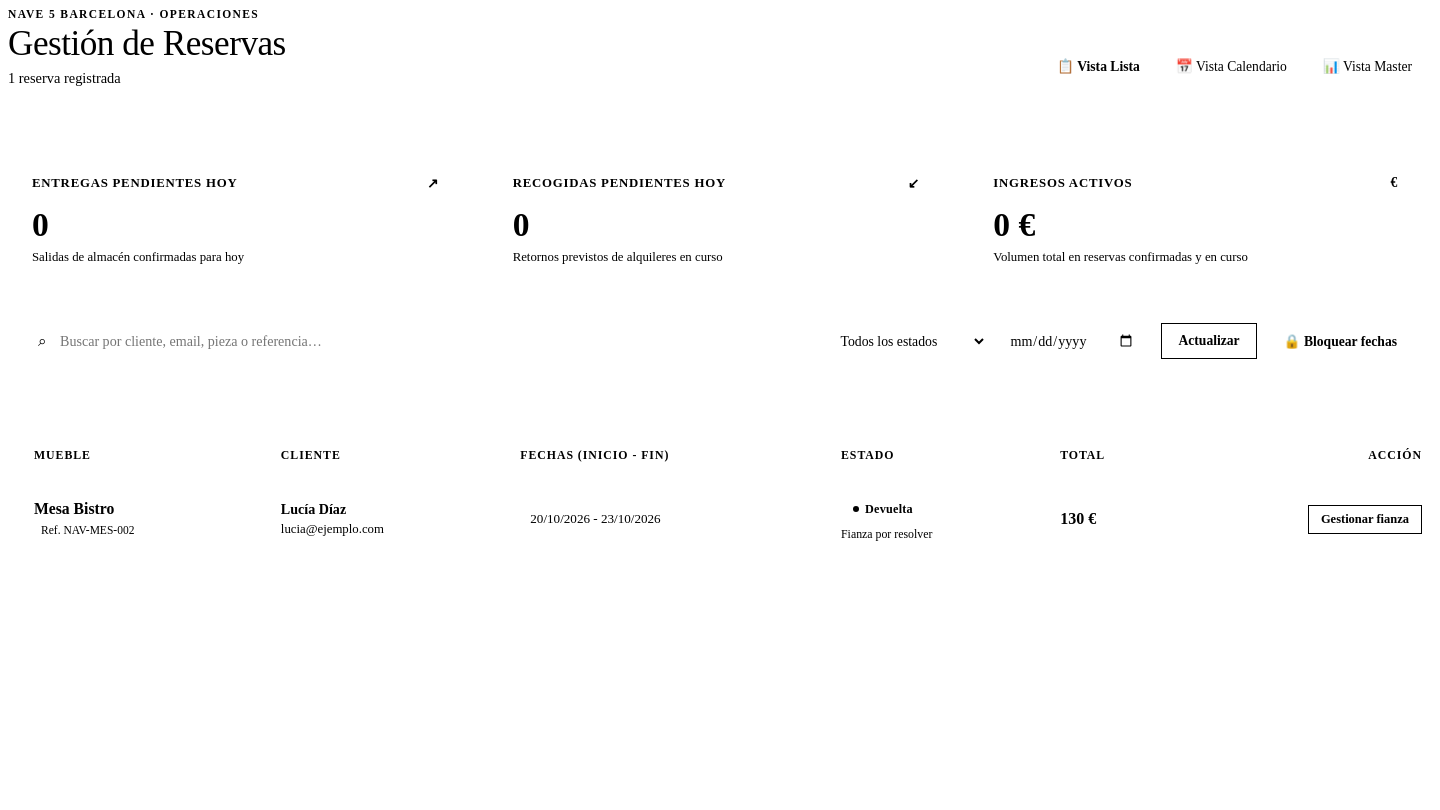
Scenario: ReservasTab — Gestionar fianza (R-e) › devolverla entera: manda retener 0 y avisa
The width and height of the screenshot is (1440, 810).
Expected: the text "Mesa Bistro" is shown, [34, 500, 114, 518]
Click the button "Gestionar fianza" at [1365, 520], box [1308, 505, 1422, 534]
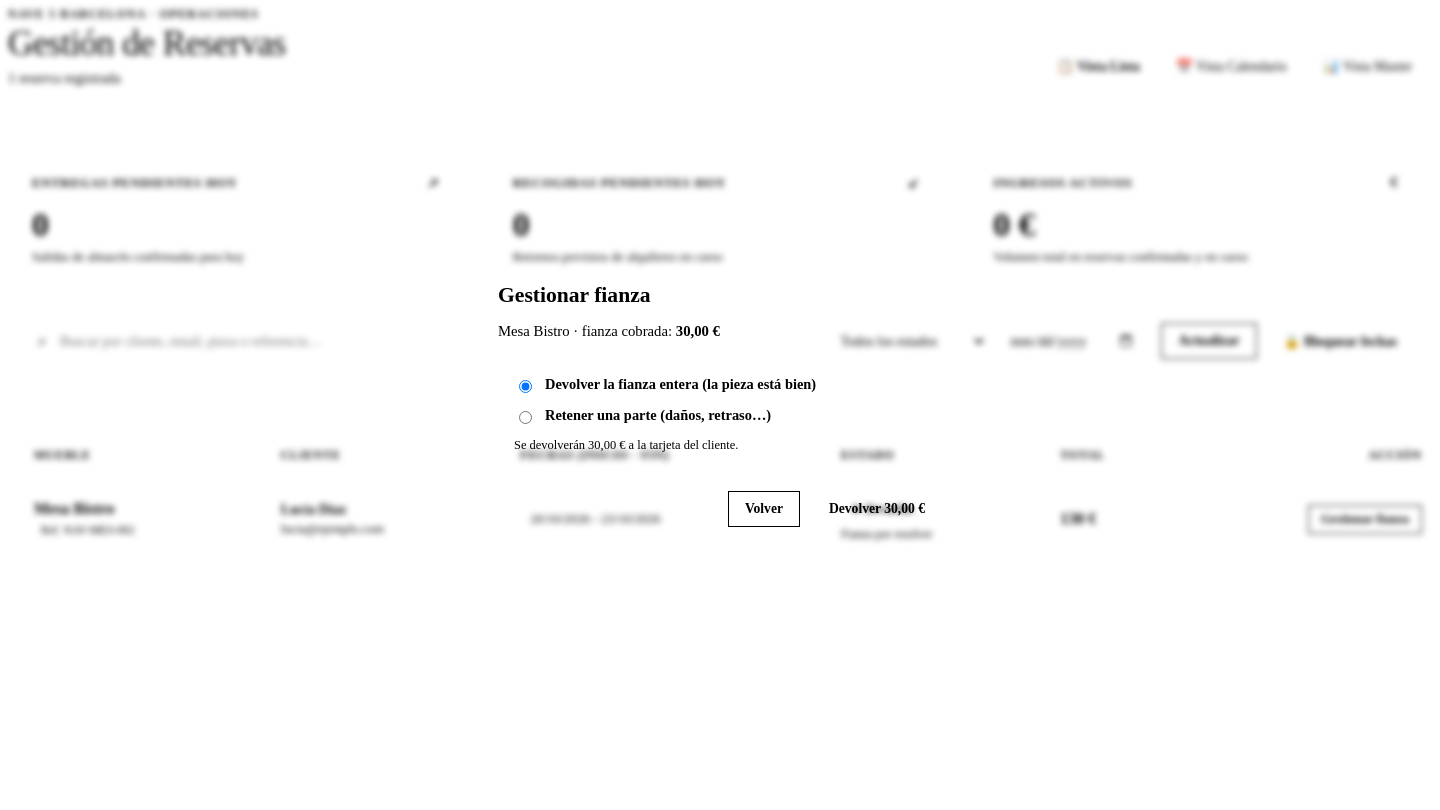
Expected: the dialog "Gestionar fianza" is shown, [470, 255, 970, 555]
Click the button "Devolver 30,00 €" at [877, 509], box [812, 491, 942, 527]
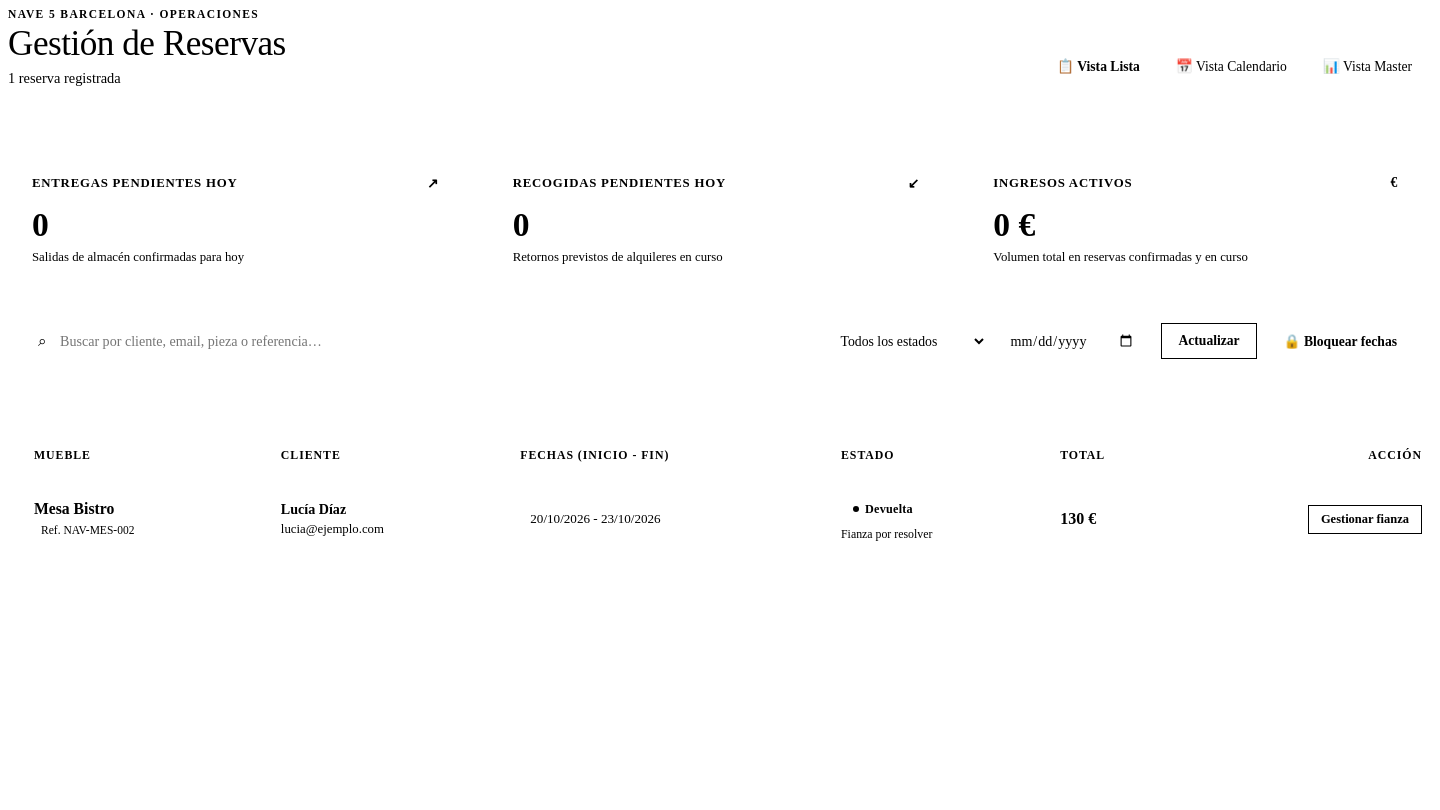
Expected: the dialog is gone
